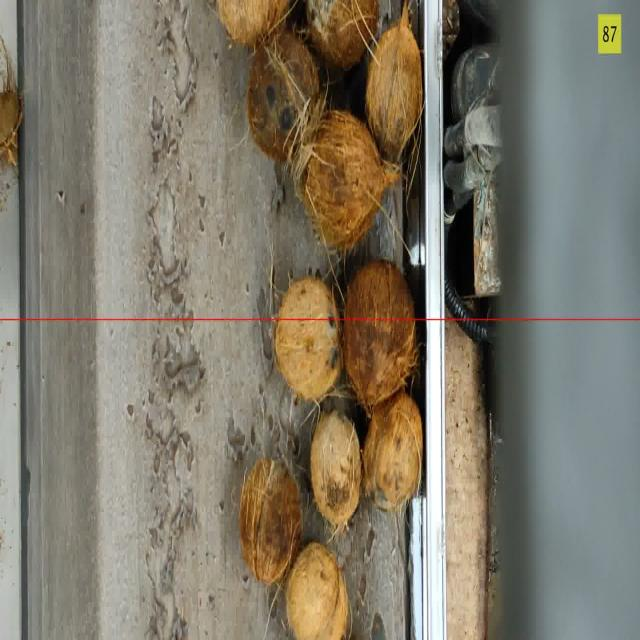Coconut-Conveyor-Belt: (294, 110, 399, 249), (343, 261, 417, 412), (247, 30, 319, 161), (366, 3, 422, 161), (276, 277, 341, 399), (239, 459, 301, 584), (363, 390, 422, 510), (310, 411, 361, 530), (286, 543, 348, 639), (307, 0, 378, 69), (218, 0, 289, 46), (0, 37, 23, 165)
